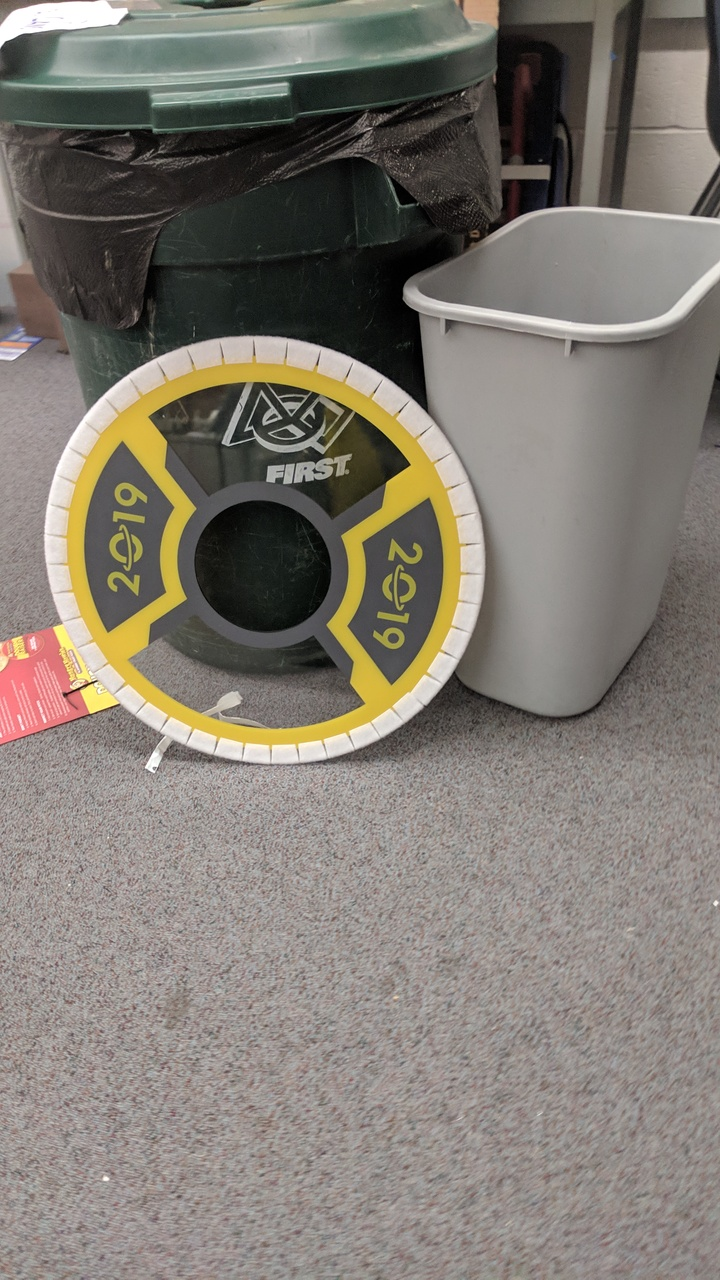hatch_panel: (25, 332, 496, 782)
